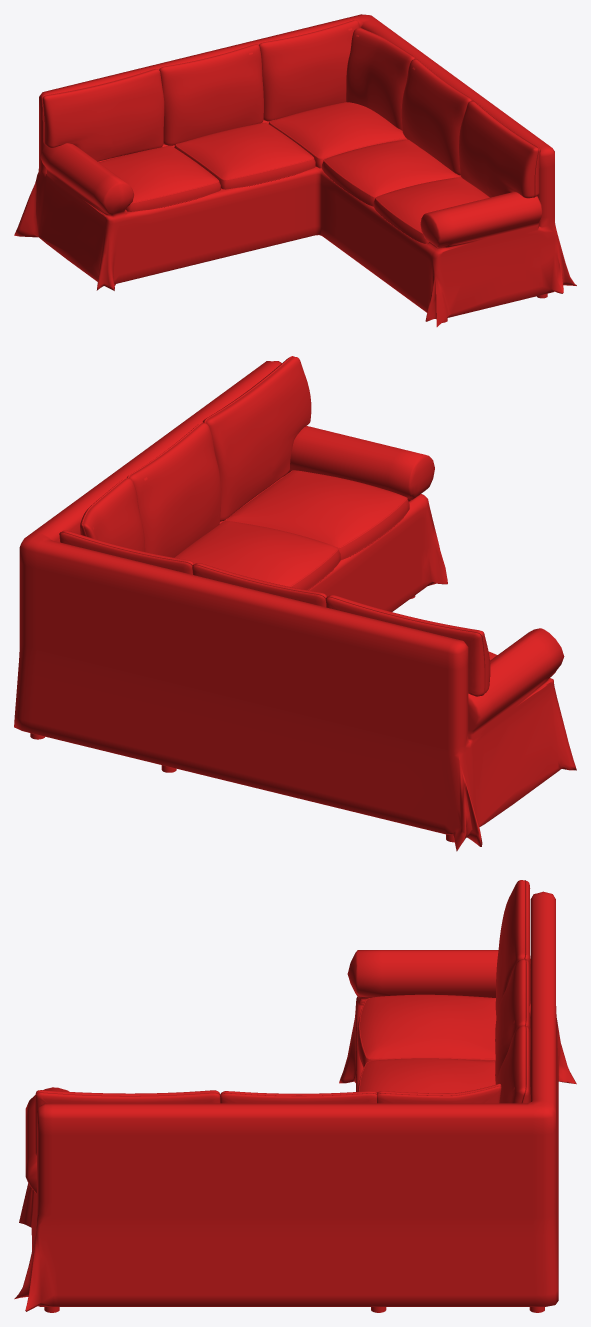
File: red_sofa_L.fbx
3 views of the same model, one above another, from view 1: azimuth 30°, elevation 25°; view 2: azimuth 150°, elevation 25°; view 3: azimuth 270°, elevation 25° (orthographic). The views are drawn at different scales.
Visible parts, largest first — view 1: IKEA_Ektorp_Seat_Corner_Bed_Sofa_3D:Box01, IKEA_Ektorp_Seat_Corner_Bed_Sofa_3D:Rectangle05, IKEA_Ektorp_Seat_Corner_Bed_Sofa_3D:Rectangle03, IKEA_Ektorp_Seat_Corner_Bed_Sofa_3D:Rectangle19, IKEA_Ektorp_Seat_Corner_Bed_Sofa_3D:Box11, IKEA_Ektorp_Seat_Corner_Bed_Sofa_3D:Rectangle20, IKEA_Ektorp_Seat_Corner_Bed_Sofa_3D:Box13, IKEA_Ektorp_Seat_Corner_Bed_Sofa_3D:Rectangle21, IKEA_Ektorp_Seat_Corner_Bed_Sofa_3D:Box08, IKEA_Ektorp_Seat_Corner_Bed_Sofa_3D:Box14, IKEA_Ektorp_Seat_Corner_Bed_Sofa_3D:Rectangle22, IKEA_Ektorp_Seat_Corner_Bed_Sofa_3D:Box12; view 2: IKEA_Ektorp_Seat_Corner_Bed_Sofa_3D:Box01, IKEA_Ektorp_Seat_Corner_Bed_Sofa_3D:Rectangle20, IKEA_Ektorp_Seat_Corner_Bed_Sofa_3D:Box12, IKEA_Ektorp_Seat_Corner_Bed_Sofa_3D:Rectangle21, IKEA_Ektorp_Seat_Corner_Bed_Sofa_3D:Box13, IKEA_Ektorp_Seat_Corner_Bed_Sofa_3D:Rectangle05, IKEA_Ektorp_Seat_Corner_Bed_Sofa_3D:Rectangle22, IKEA_Ektorp_Seat_Corner_Bed_Sofa_3D:Rectangle03, IKEA_Ektorp_Seat_Corner_Bed_Sofa_3D:Rectangle19; view 3: IKEA_Ektorp_Seat_Corner_Bed_Sofa_3D:Box01, IKEA_Ektorp_Seat_Corner_Bed_Sofa_3D:Box08, IKEA_Ektorp_Seat_Corner_Bed_Sofa_3D:Box11, IKEA_Ektorp_Seat_Corner_Bed_Sofa_3D:Rectangle05, IKEA_Ektorp_Seat_Corner_Bed_Sofa_3D:Rectangle03, IKEA_Ektorp_Seat_Corner_Bed_Sofa_3D:Rectangle20, IKEA_Ektorp_Seat_Corner_Bed_Sofa_3D:Rectangle19, IKEA_Ektorp_Seat_Corner_Bed_Sofa_3D:Rectangle21, IKEA_Ektorp_Seat_Corner_Bed_Sofa_3D:Rectangle22.
Boxes of the visible parts, left/top/right/bottom form: IKEA_Ektorp_Seat_Corner_Bed_Sofa_3D:Box01: left=14, top=14, right=576, bottom=326; IKEA_Ektorp_Seat_Corner_Bed_Sofa_3D:Rectangle05: left=42, top=68, right=164, bottom=161; IKEA_Ektorp_Seat_Corner_Bed_Sofa_3D:Rectangle03: left=159, top=44, right=263, bottom=145; IKEA_Ektorp_Seat_Corner_Bed_Sofa_3D:Rectangle19: left=258, top=19, right=359, bottom=121; IKEA_Ektorp_Seat_Corner_Bed_Sofa_3D:Box11: left=174, top=122, right=315, bottom=189; IKEA_Ektorp_Seat_Corner_Bed_Sofa_3D:Rectangle20: left=459, top=100, right=540, bottom=198; IKEA_Ektorp_Seat_Corner_Bed_Sofa_3D:Box13: left=322, top=139, right=459, bottom=206; IKEA_Ektorp_Seat_Corner_Bed_Sofa_3D:Rectangle21: left=401, top=58, right=472, bottom=175; IKEA_Ektorp_Seat_Corner_Bed_Sofa_3D:Box08: left=99, top=146, right=220, bottom=211; IKEA_Ektorp_Seat_Corner_Bed_Sofa_3D:Box14: left=268, top=102, right=406, bottom=168; IKEA_Ektorp_Seat_Corner_Bed_Sofa_3D:Rectangle22: left=346, top=28, right=415, bottom=130; IKEA_Ektorp_Seat_Corner_Bed_Sofa_3D:Box12: left=373, top=177, right=489, bottom=243; IKEA_Ektorp_Seat_Corner_Bed_Sofa_3D:Box01: left=14, top=361, right=576, bottom=851; IKEA_Ektorp_Seat_Corner_Bed_Sofa_3D:Rectangle20: left=202, top=356, right=311, bottom=521; IKEA_Ektorp_Seat_Corner_Bed_Sofa_3D:Box12: left=225, top=470, right=409, bottom=559; IKEA_Ektorp_Seat_Corner_Bed_Sofa_3D:Rectangle21: left=127, top=422, right=221, bottom=557; IKEA_Ektorp_Seat_Corner_Bed_Sofa_3D:Box13: left=174, top=520, right=340, bottom=590; IKEA_Ektorp_Seat_Corner_Bed_Sofa_3D:Rectangle05: left=326, top=595, right=490, bottom=696; IKEA_Ektorp_Seat_Corner_Bed_Sofa_3D:Rectangle22: left=80, top=477, right=145, bottom=551; IKEA_Ektorp_Seat_Corner_Bed_Sofa_3D:Rectangle03: left=192, top=563, right=326, bottom=607; IKEA_Ektorp_Seat_Corner_Bed_Sofa_3D:Rectangle19: left=59, top=530, right=193, bottom=574; IKEA_Ektorp_Seat_Corner_Bed_Sofa_3D:Box01: left=14, top=891, right=576, bottom=1311; IKEA_Ektorp_Seat_Corner_Bed_Sofa_3D:Box08: left=357, top=994, right=496, bottom=1067; IKEA_Ektorp_Seat_Corner_Bed_Sofa_3D:Box11: left=357, top=1058, right=495, bottom=1093; IKEA_Ektorp_Seat_Corner_Bed_Sofa_3D:Rectangle05: left=495, top=880, right=530, bottom=1017; IKEA_Ektorp_Seat_Corner_Bed_Sofa_3D:Rectangle03: left=495, top=959, right=530, bottom=1084; IKEA_Ektorp_Seat_Corner_Bed_Sofa_3D:Rectangle20: left=35, top=1090, right=220, bottom=1155; IKEA_Ektorp_Seat_Corner_Bed_Sofa_3D:Rectangle19: left=496, top=1025, right=530, bottom=1103; IKEA_Ektorp_Seat_Corner_Bed_Sofa_3D:Rectangle21: left=220, top=1091, right=376, bottom=1103; IKEA_Ektorp_Seat_Corner_Bed_Sofa_3D:Rectangle22: left=377, top=1083, right=501, bottom=1103.
Bounding box in the file's own units: 302 × 121 × 292.
